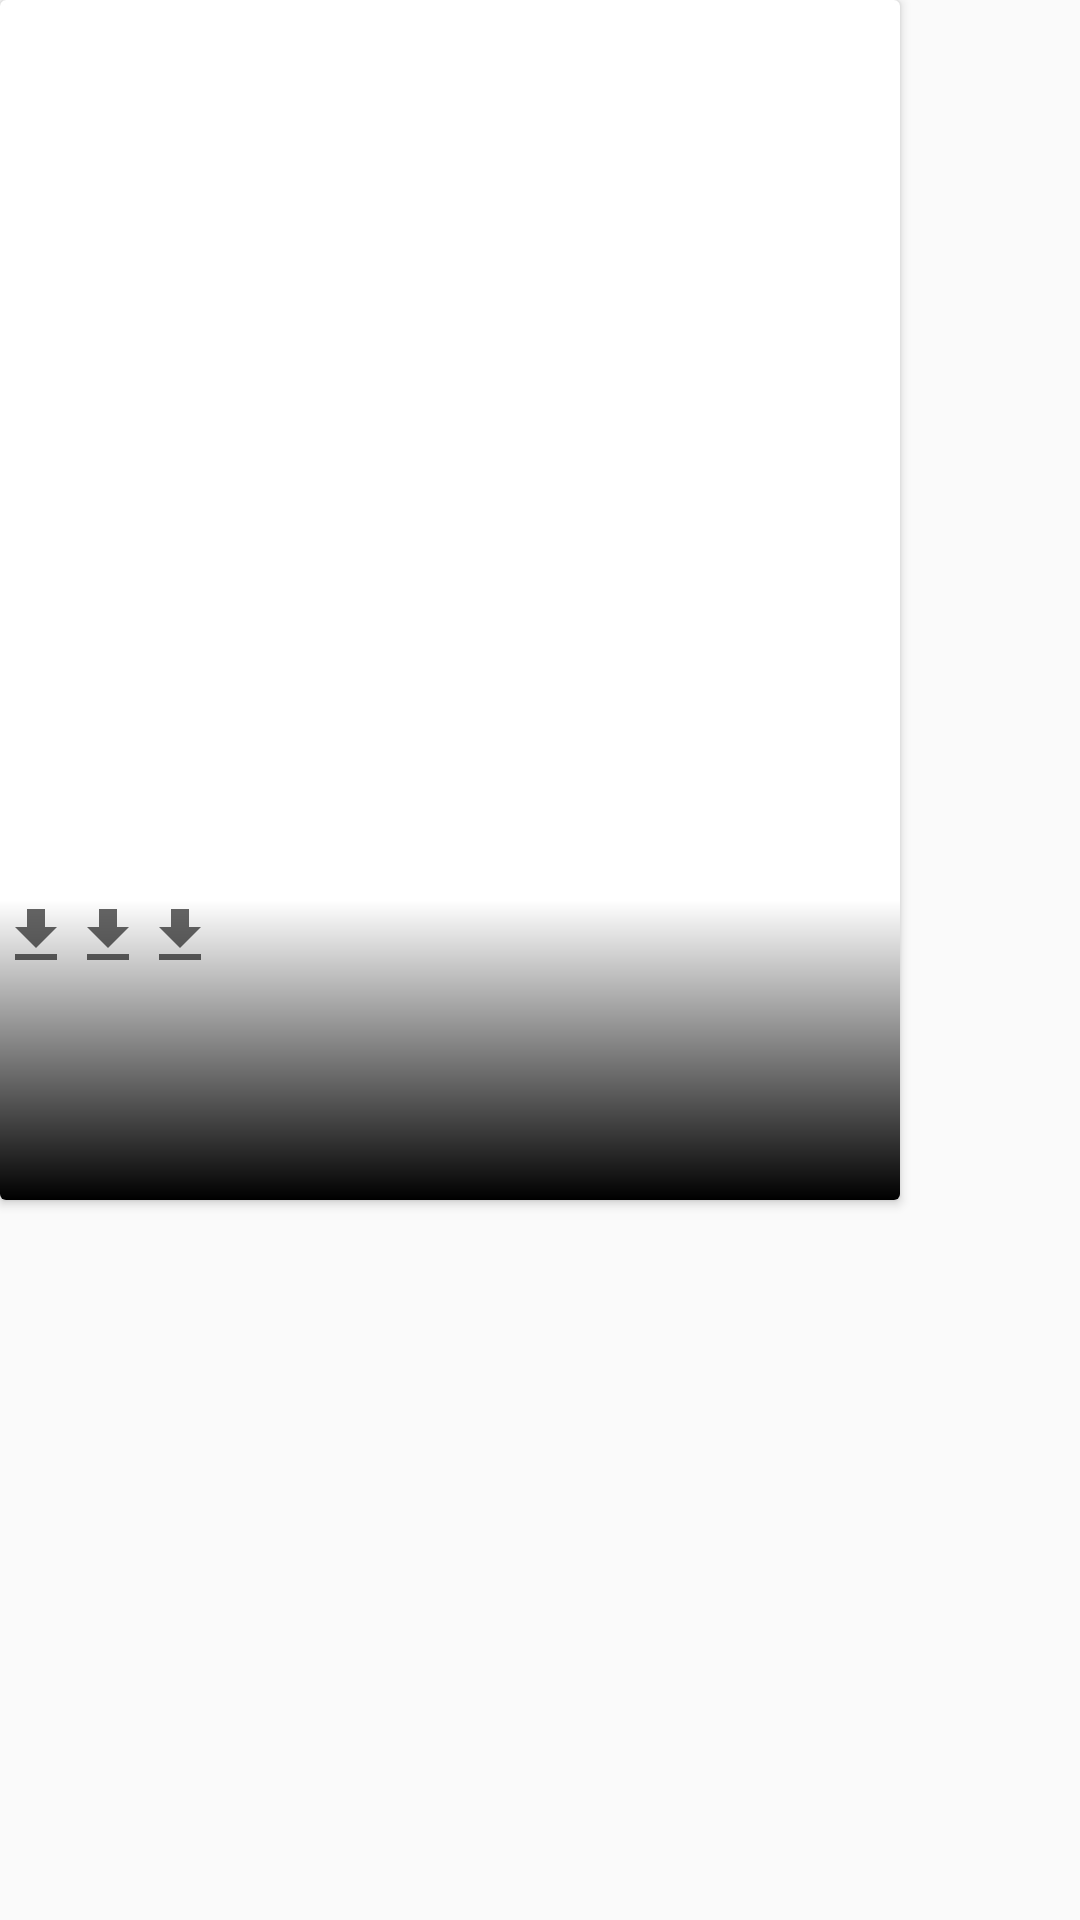

Icons on this 1080 × 1920 Android screen, each with the point to tap as point (x, y):
file download: point (36, 936), point (108, 936), point (180, 936)
